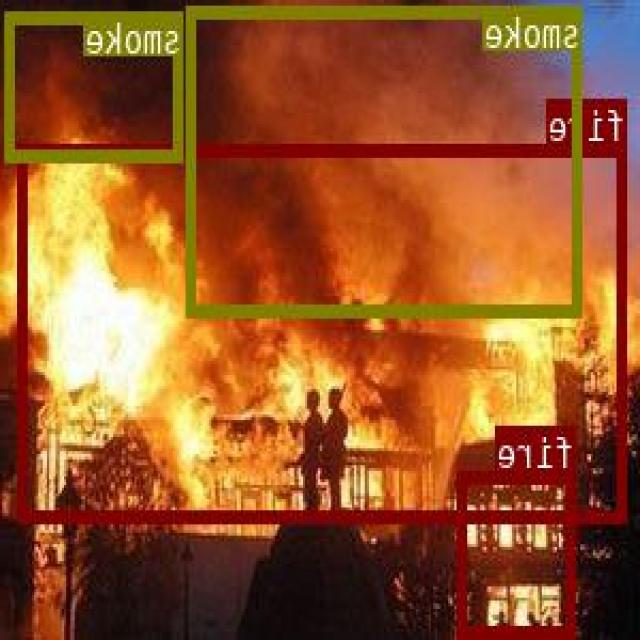fire: (20, 142, 628, 521), (461, 470, 577, 634)
smoke: (189, 5, 583, 314), (8, 11, 184, 160)
